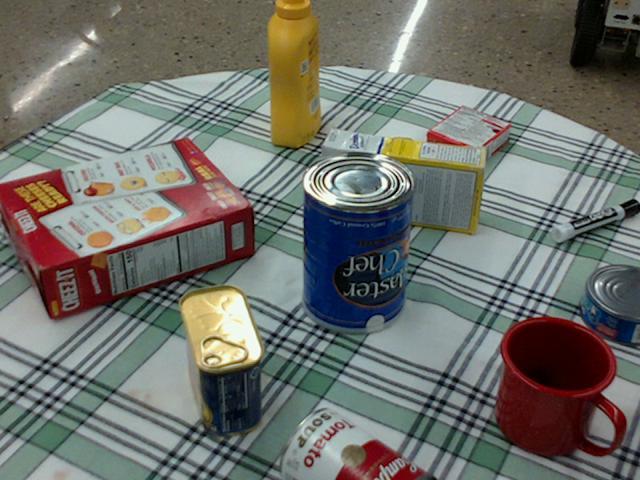cracker_box: (0, 139, 250, 318)
gelatin_box: (424, 106, 509, 169)
large_marker: (551, 199, 639, 241)
master_chef_can: (302, 150, 416, 332)
mug: (494, 316, 623, 455)
mustard_bottle: (266, 0, 319, 146)
potted_meat_can: (178, 284, 264, 435)
sugar_box: (319, 130, 487, 234)
tomato_soup_can: (280, 409, 435, 479)
tuna_fish_can: (580, 265, 639, 345)
